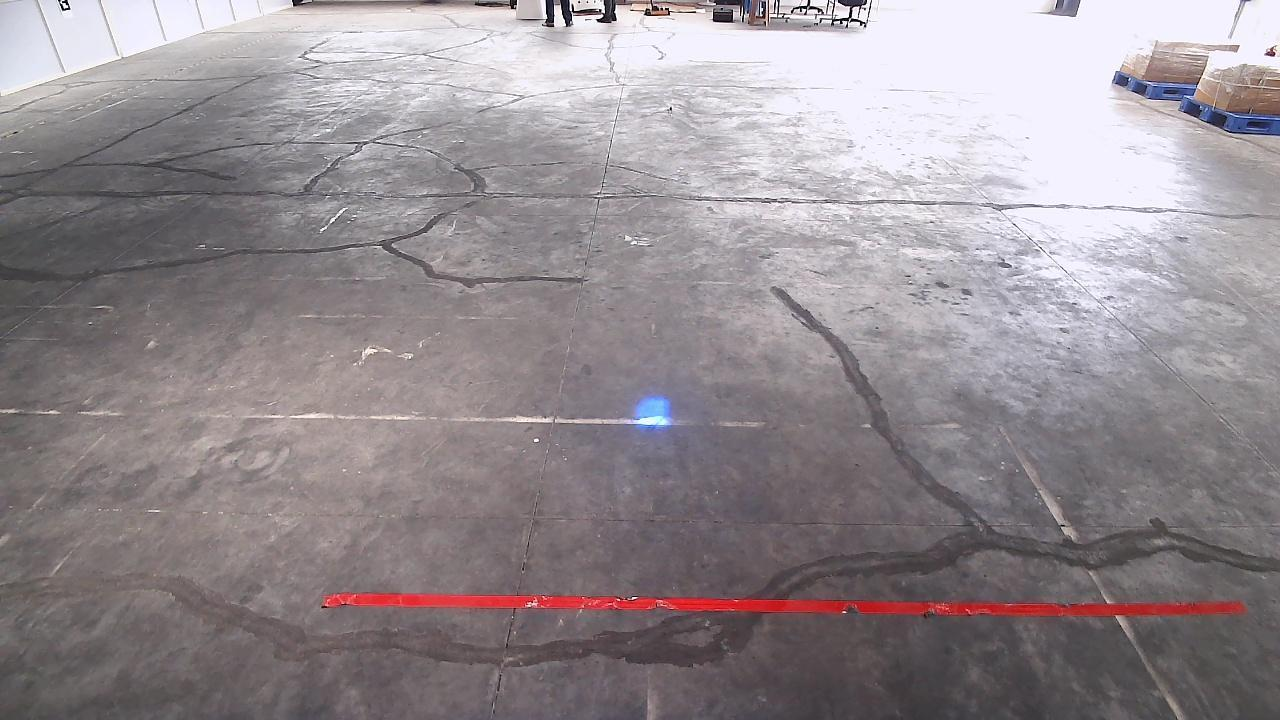red_line: (319, 583, 1260, 619)
